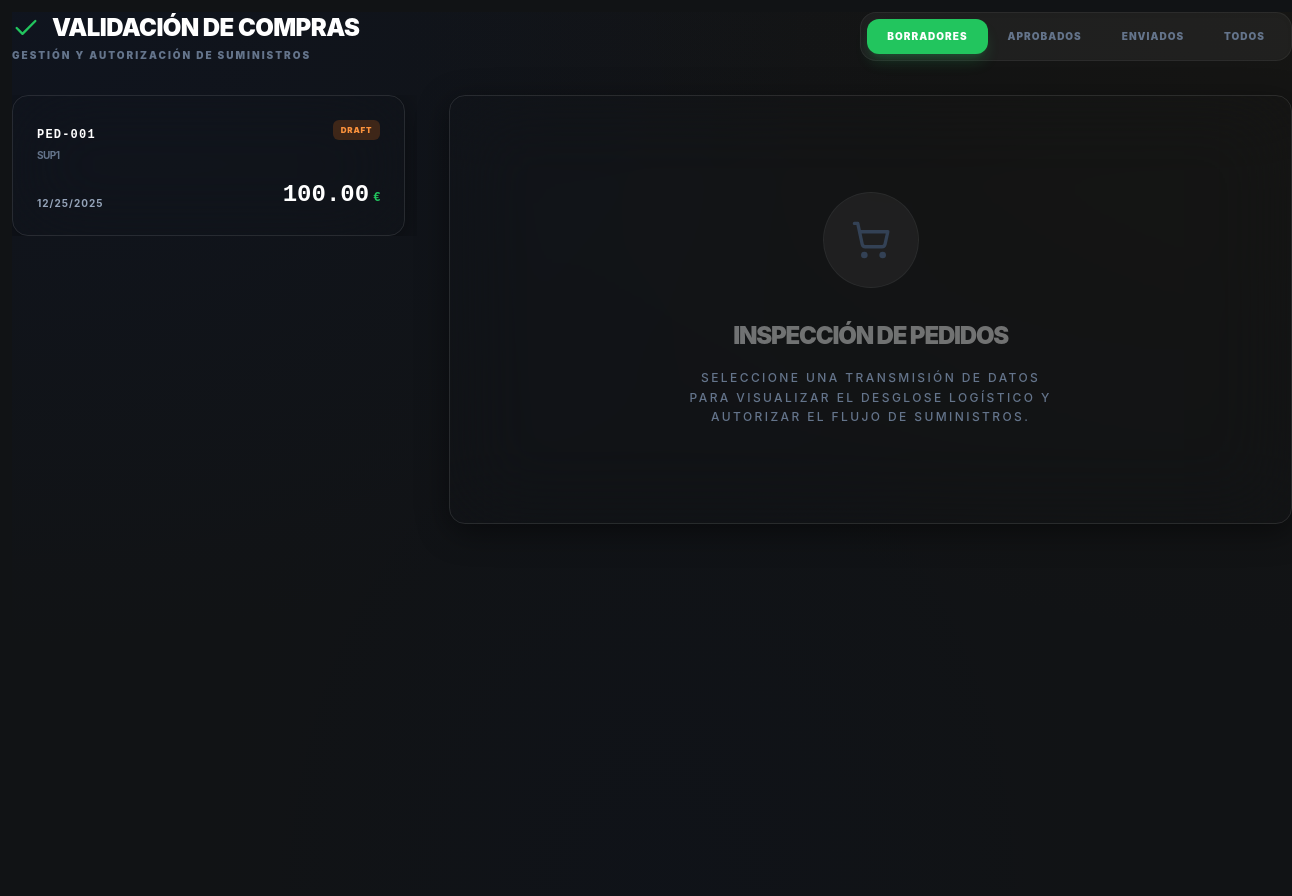
Scenario: AprobacionPedido Integration › selects an order and shows details
Click the text "PED-001" at (66, 135), box [37,128,96,142]
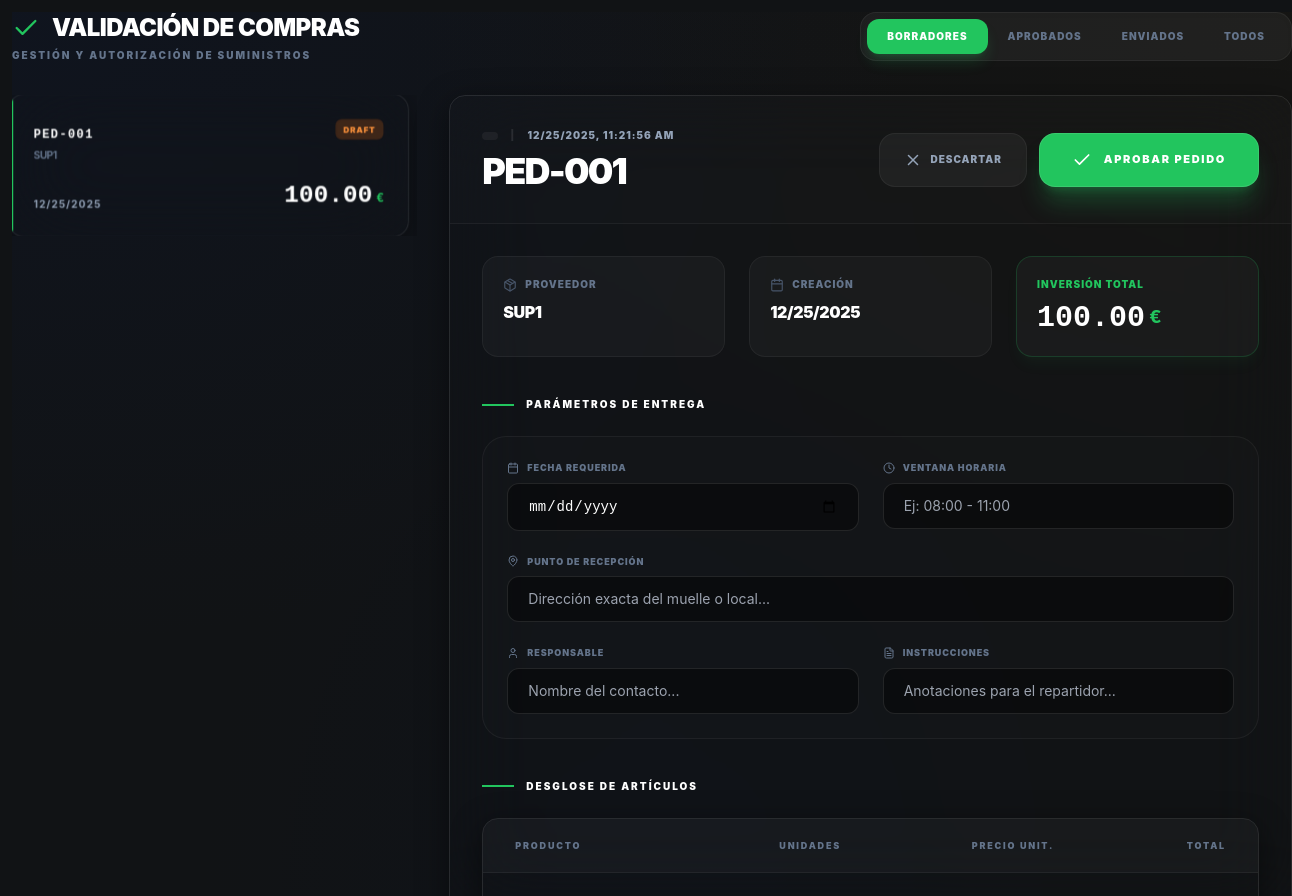
Result: the button "Aprobar Pedido" is shown at [1039,132,1259,186]
